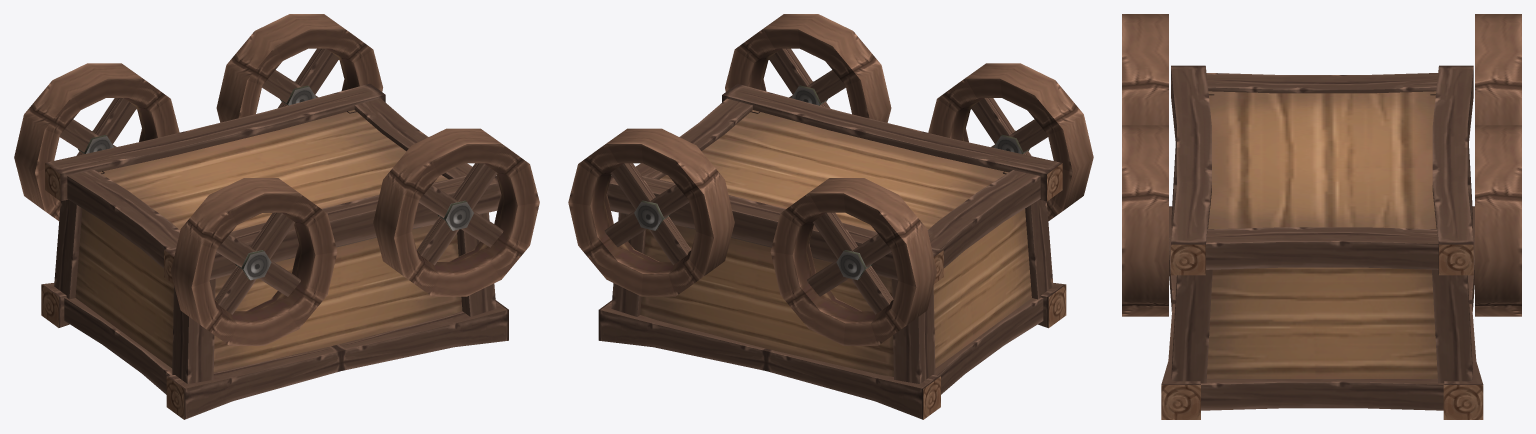
The model's file is wagon.FBX.
The picture shows the model from 3 angles, left to right: view 1: azimuth 30°, elevation 25°; view 2: azimuth 150°, elevation 25°; view 3: azimuth 270°, elevation 25°; orthographic projection. The views are drawn at different scales.
Visible parts, largest first — view 1: wagon; view 2: wagon; view 3: wagon.
Part boxes in pixels (box(x1,y1,x2,y2)): wagon: box(14, 14, 539, 419); wagon: box(568, 14, 1093, 419); wagon: box(1122, 14, 1521, 419).
Size of the model in its own units: 627 by 385 by 553.
Materials: 1 (1 with a texture image).
